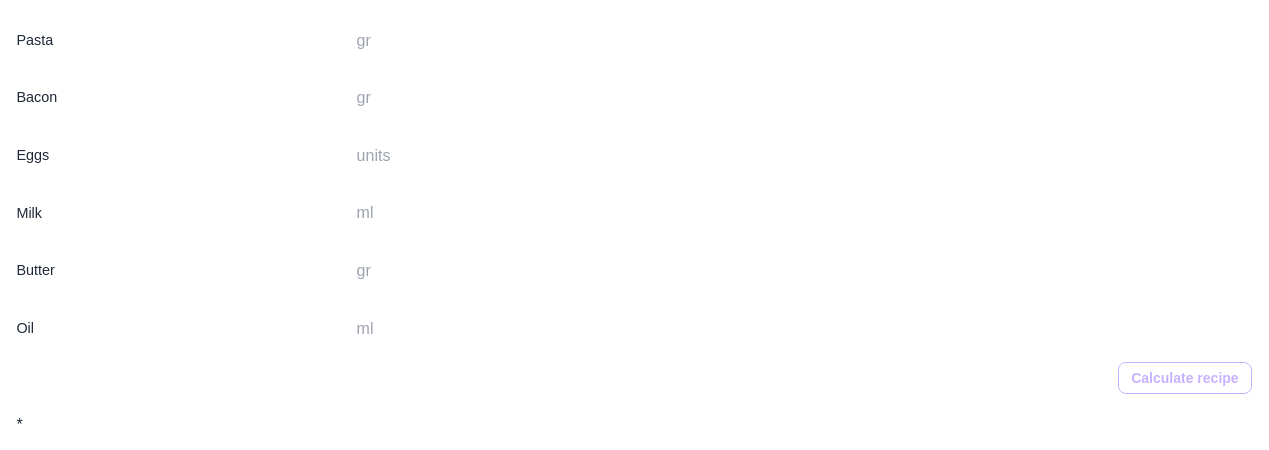
Test: CarbonaraForm component › Change input mode, switch between inputs and selects
Expected: the field with placeholder "gr" in the row of "pasta" is shown, [340,17,1242,65]
Click the text with test id "change-input-mode" at (20, 425), box [16,416,23,433]
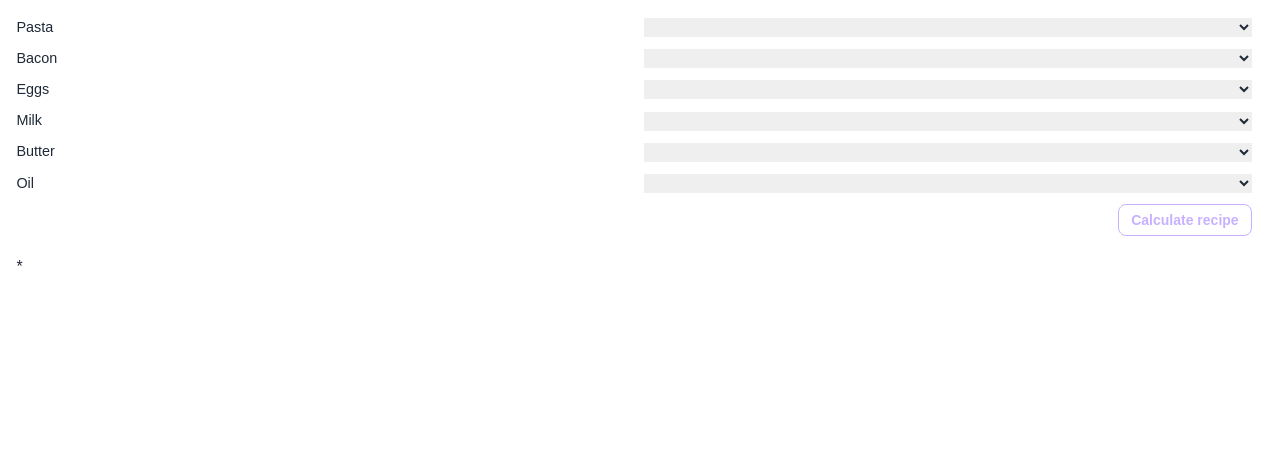
Expected: the dropdown in the row of "pasta" is shown, [644,18,1252,37]
